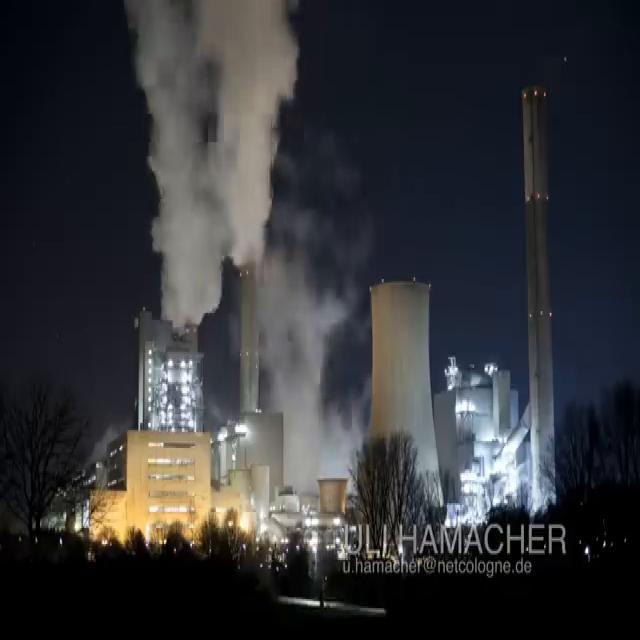smoke: (0, 0, 398, 501), (122, 0, 299, 331)
